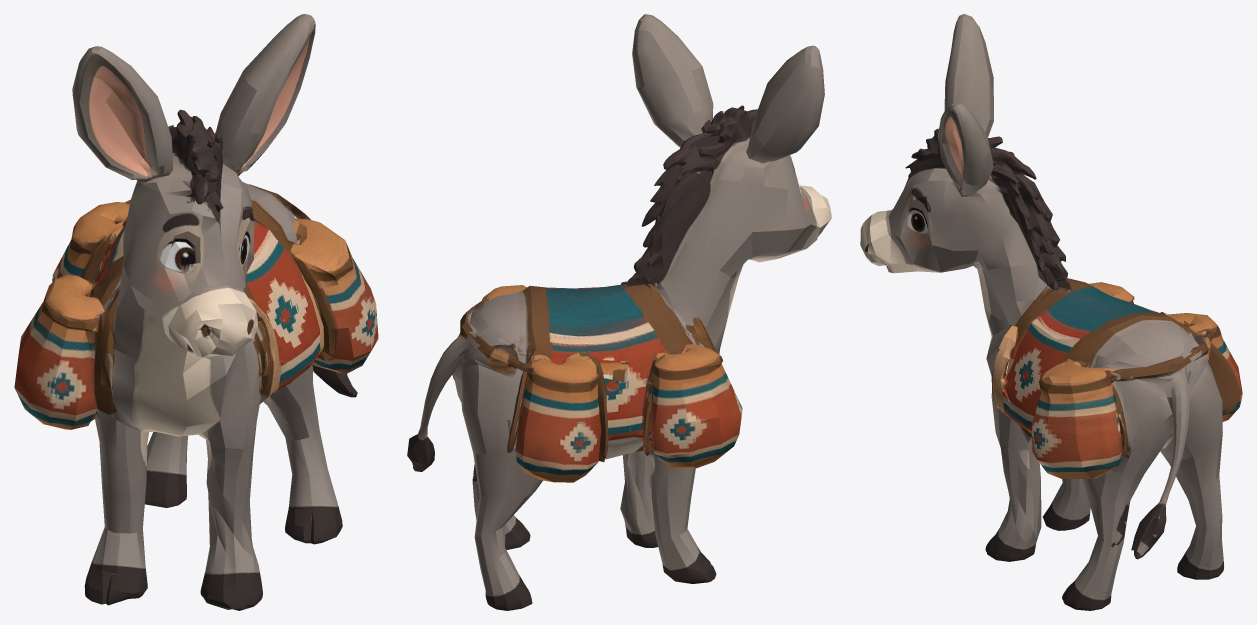
File: esek.glb
3 renders of one model, left to right at view 1: azimuth 30°, elevation 25°; view 2: azimuth 150°, elevation 25°; view 3: azimuth 270°, elevation 25°, orthographic. The views are drawn at different scales.
Parts seen in each view (by area): view 1: Mesh0; view 2: Mesh0; view 3: Mesh0.
Boxes of the visible parts, <box> form: Mesh0: <box>14,14,378,610</box>; Mesh0: <box>407,14,831,610</box>; Mesh0: <box>860,14,1242,610</box>.
Bounding box in the file's own units: 1.26 × 1.9 × 1.38.
Materials: 1 (1 with a texture image).
